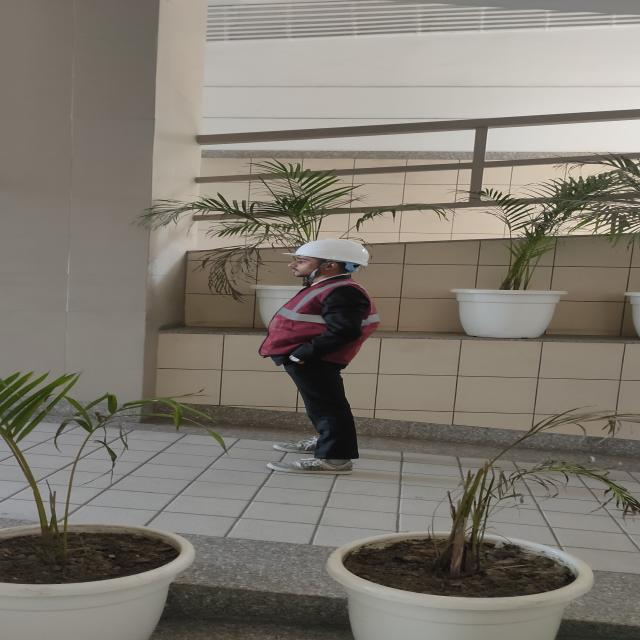safe: (259, 240, 379, 472)
